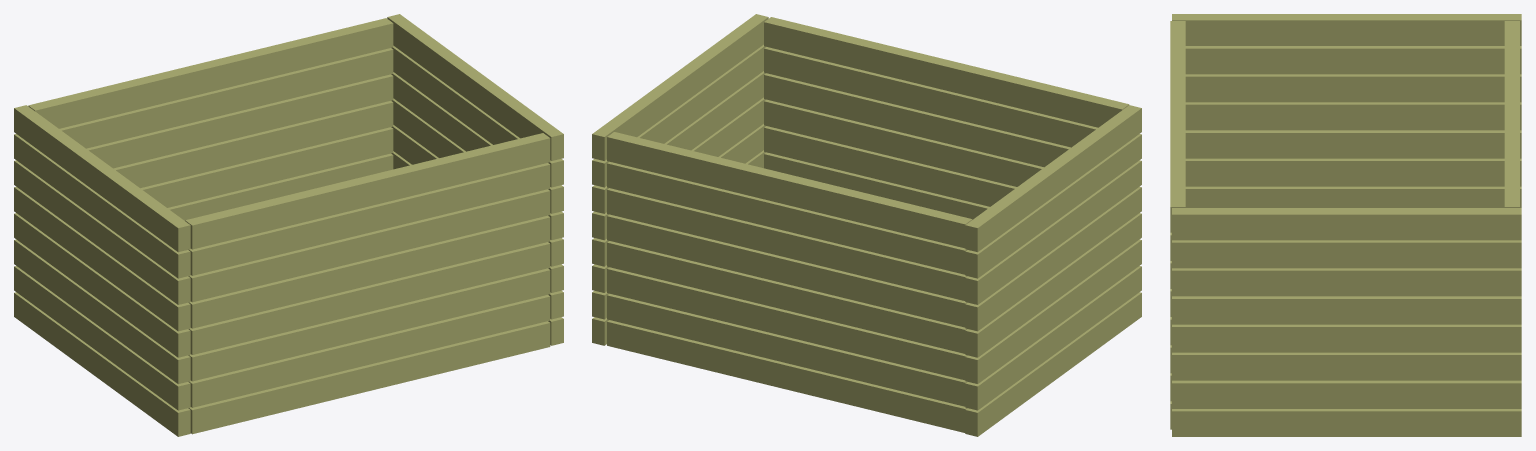
The model's file is Toybox.fbx.
The picture shows the model from 3 angles, left to right: view 1: azimuth 30°, elevation 25°; view 2: azimuth 150°, elevation 25°; view 3: azimuth 270°, elevation 25°; orthographic projection. The views are drawn at different scales.
Visible parts, largest first — view 1: pCube9, pCube16, pCube7, pCube3, pCube6, pCube8, pCube5, pCube4, pCube2, pCube15, pCube14, pCube13 (+16 smaller); view 2: pCube16, pCube9, pCube15, pCube10, pCube14, pCube13, pCube35, pCube36, pCube25, pCube8, pCube7, pCube6 (+16 smaller); view 3: pCube41, pCube24, pCube18, pCube19, pCube20, pCube21, pCube22, pCube23, pCube44, pCube28, pCube27, pCube29 (+5 smaller).
Boxes of the visible parts, x1,y1,x2,y2 form: pCube9: (185, 133, 550, 249); pCube16: (28, 18, 393, 128); pCube7: (188, 189, 550, 302); pCube3: (188, 295, 550, 407); pCube6: (188, 215, 550, 328); pCube8: (188, 163, 550, 275); pCube5: (188, 242, 550, 354); pCube4: (188, 268, 550, 381); pCube2: (188, 321, 550, 434); pCube15: (59, 48, 393, 148); pCube14: (86, 74, 393, 168); pCube13: (113, 101, 393, 188); pCube16: (607, 132, 972, 248); pCube9: (764, 17, 1129, 127); pCube15: (607, 161, 967, 274); pCube10: (607, 293, 967, 406); pCube14: (607, 188, 967, 300); pCube13: (607, 214, 967, 327); pCube35: (607, 241, 967, 353); pCube36: (607, 267, 967, 380); pCube25: (607, 320, 967, 432); pCube8: (764, 47, 1097, 147); pCube7: (764, 73, 1070, 167); pCube6: (764, 99, 1043, 186); pCube41: (1172, 208, 1521, 240); pCube24: (1172, 14, 1521, 45); pCube18: (1172, 380, 1521, 408); pCube19: (1172, 352, 1521, 380); pCube20: (1172, 324, 1521, 352); pCube21: (1172, 296, 1521, 324); pCube22: (1172, 268, 1521, 296); pCube23: (1172, 240, 1521, 268); pCube44: (1172, 409, 1521, 436); pCube28: (1185, 130, 1521, 158); pCube27: (1185, 158, 1521, 186); pCube29: (1185, 102, 1521, 130).
Bounding box in the file's own units: 3.82 × 2 × 2.83.
